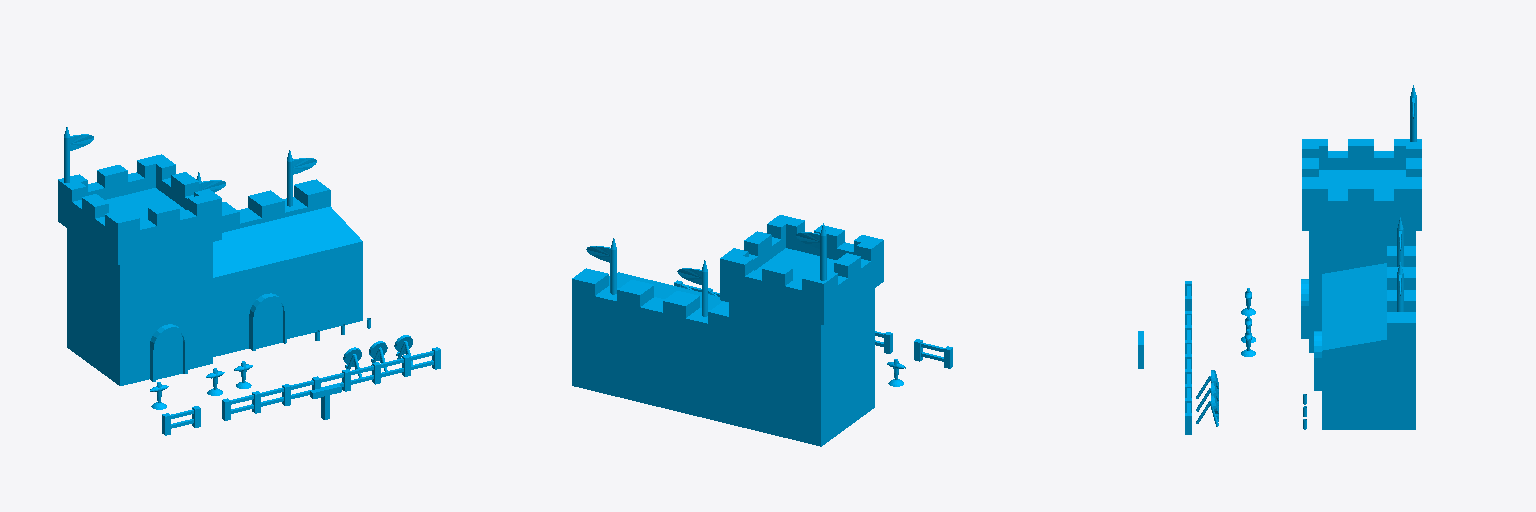
The model's file is barracks.obj.
3 views of the same model, side by side, from view 1: azimuth 30°, elevation 25°; view 2: azimuth 150°, elevation 25°; view 3: azimuth 270°, elevation 25° (orthographic).
Parts seen in each view (by area): view 1: polySurface588; view 2: polySurface588; view 3: polySurface588.
Boxes of the visible parts, <box> form: polySurface588: <box>58,127,440,435</box>; polySurface588: <box>572,215,952,446</box>; polySurface588: <box>1138,85,1421,434</box>.
Bounding box in the file's own units: 23.85 × 18.48 × 21.32.